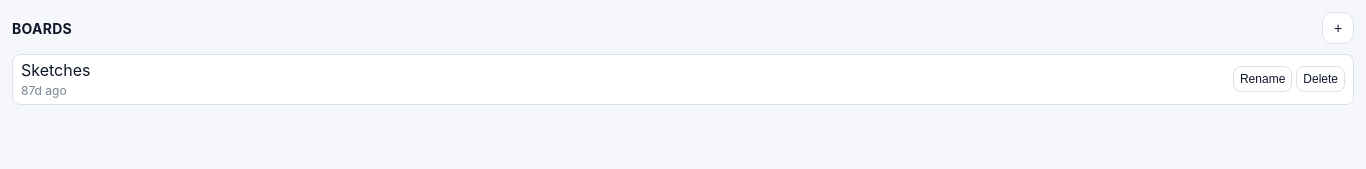
Test case: BoardList › shows a pending delete label while a board delete is in flight
Expected: the list item "Sketches 87d ago Rename Delete" is shown, 12,54 -> 1354,105
Expected: the button with class "board-list__item-button" is shown, 21,61 -> 1227,80
Click the button "Delete" at (1321, 80), box 1296,66 -> 1345,92
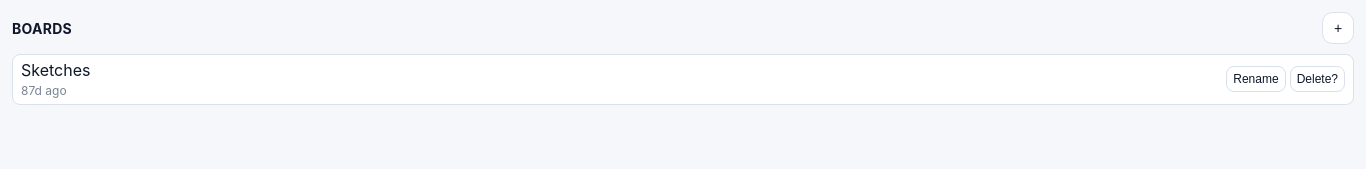
Click the button "Delete?" at (1317, 80), box 1290,66 -> 1345,92
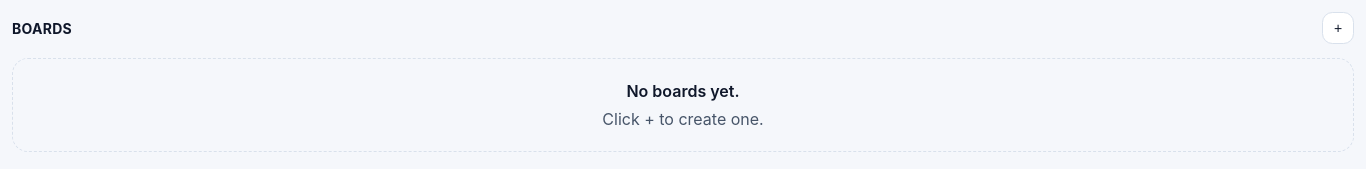
Now the text "No boards yet." is shown, box 626,79 -> 740,103
